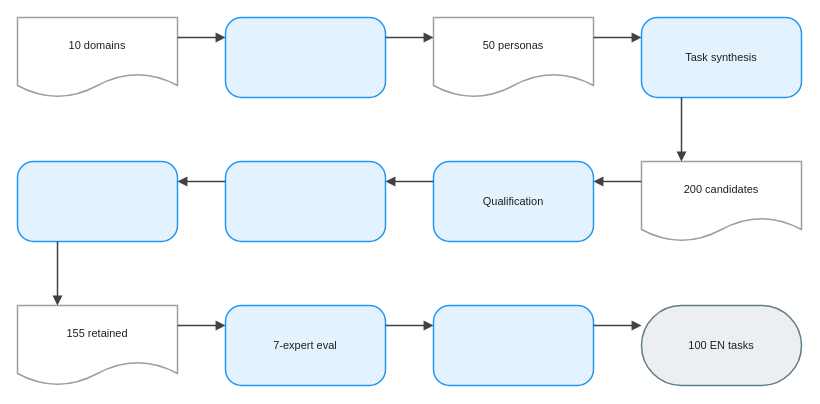
This 820x404 diagram has some shape labels left out. Each missing label, with the centre of its shape:
"GPT-5-mini" goes at point 305,57.
"No-search test" goes at point 305,201.
"Search needed" goes at point 97,201.
"Select 100" goes at point 513,345.
